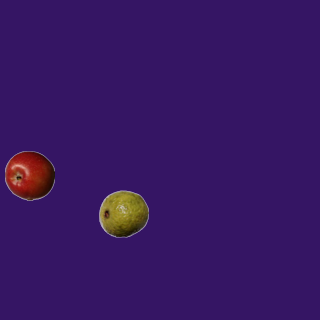Apple Braeburn: (4, 150, 54, 200)
Guava: (98, 188, 148, 238)
